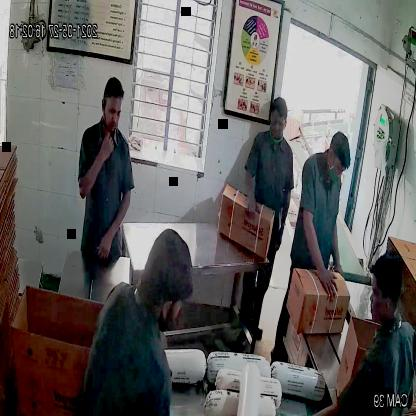no_goggles: (101, 100, 124, 122)
